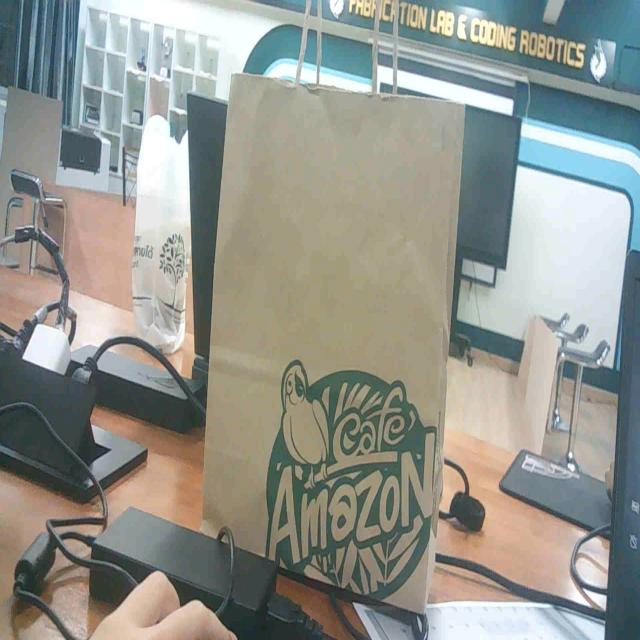bag: (197, 42, 467, 630)
